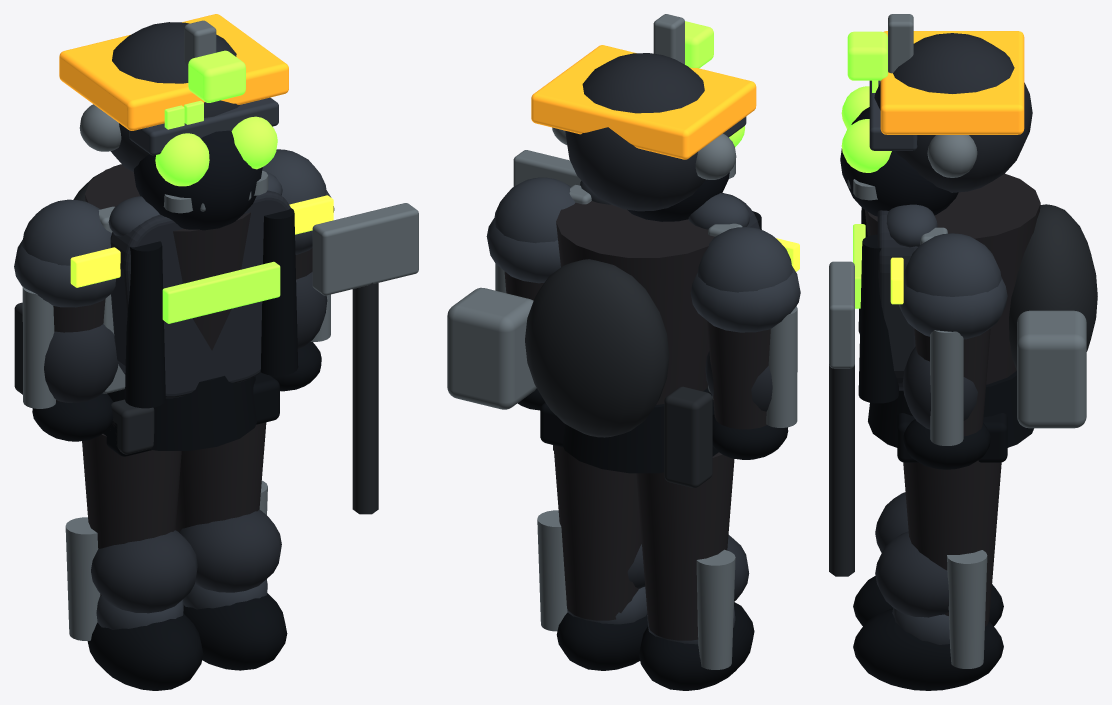
File: engineer_l02.glb
3 renders of one model, left to right at view 1: azimuth 30°, elevation 25°; view 2: azimuth 150°, elevation 25°; view 3: azimuth 270°, elevation 25°, orthographic. The views are drawn at different scales.
Visible parts, largest first — view 1: trouser (×2), shaped_knee_guard (×2), rounded_boot (×2), contoured_vest, vest_tether (×2), safety_helmet_band, axe_head, enclosed_mask, shoulder_joint (×2), curved_forearm_guard (×2), axe_handle, waist_flex (+21 smaller); view 2: trouser (×2), shaped_field_pack, body, rounded_helmet, safety_helmet_band, repair_canister, shoulder_joint (×2), rounded_boot (×2), shin_frame (×2), shoulder_plate (×2), sleeve (×2), tool_roll (+13 smaller); view 3: rounded_helmet, trouser, safety_helmet_band, repair_canister, body, rounded_boot (×2), shaped_field_pack, shaped_knee_guard (×2), axe_handle, shoulder_joint, vest_tether, shin_frame (+20 smaller).
Boxes of the visible parts, x1=… form: trouser (×2): x1=82, y1=422, x2=266, y2=595; shaped_knee_guard (×2): x1=91, y1=509, x2=281, y2=613; rounded_boot (×2): x1=87, y1=593, x2=287, y2=690; contoured_vest: x1=110, y1=190, x2=290, y2=398; vest_tether (×2): x1=125, y1=208, x2=298, y2=408; safety_helmet_band: x1=59, y1=14, x2=288, y2=130; axe_head: x1=312, y1=203, x2=418, y2=295; enclosed_mask: x1=134, y1=130, x2=262, y2=230; shoulder_joint (×2): x1=22, y1=149, x2=326, y2=265; curved_forearm_guard (×2): x1=44, y1=272, x2=327, y2=402; axe_handle: x1=352, y1=282, x2=378, y2=514; waist_flex: x1=107, y1=376, x2=256, y2=450; trouser (×2): x1=553, y1=445, x2=734, y2=640; shaped_field_pack: x1=525, y1=259, x2=669, y2=437; body: x1=556, y1=201, x2=714, y2=404; rounded_helmet: x1=565, y1=53, x2=705, y2=211; safety_helmet_band: x1=531, y1=45, x2=756, y2=159; repair_canister: x1=447, y1=287, x2=536, y2=409; shoulder_joint (×2): x1=494, y1=177, x2=792, y2=292; rounded_boot (×2): x1=556, y1=602, x2=754, y2=690; shin_frame (×2): x1=537, y1=510, x2=735, y2=669; shoulder_plate (×2): x1=486, y1=218, x2=800, y2=332; sleeve (×2): x1=504, y1=271, x2=770, y2=429; tool_roll: x1=664, y1=386, x2=712, y2=487; rounded_helmet: x1=874, y1=33, x2=1032, y2=192; trouser: x1=903, y1=460, x2=1001, y2=626; safety_helmet_band: x1=880, y1=31, x2=1024, y2=134; repair_canister: x1=1017, y1=310, x2=1086, y2=428; body: x1=865, y1=173, x2=1040, y2=384; rounded_boot (×2): x1=853, y1=576, x2=1003, y2=690; shaped_field_pack: x1=1009, y1=204, x2=1097, y2=370; shaped_knee_guard (×2): x1=875, y1=492, x2=948, y2=617; axe_handle: x1=829, y1=364, x2=854, y2=576; shoulder_joint: x1=903, y1=233, x2=1001, y2=296; vest_tether: x1=858, y1=234, x2=898, y2=403; shin_frame: x1=947, y1=550, x2=987, y2=668.
Bounding box in the file's own units: 1.05 × 1.94 × 0.73.
